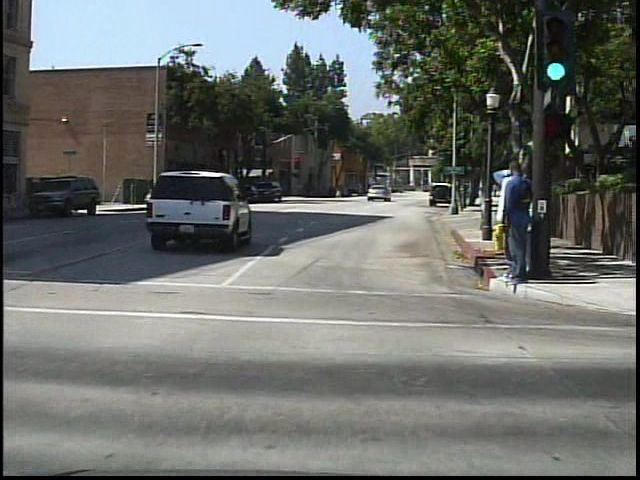person: (485, 163, 521, 288), (500, 155, 531, 289), (333, 182, 345, 199)
